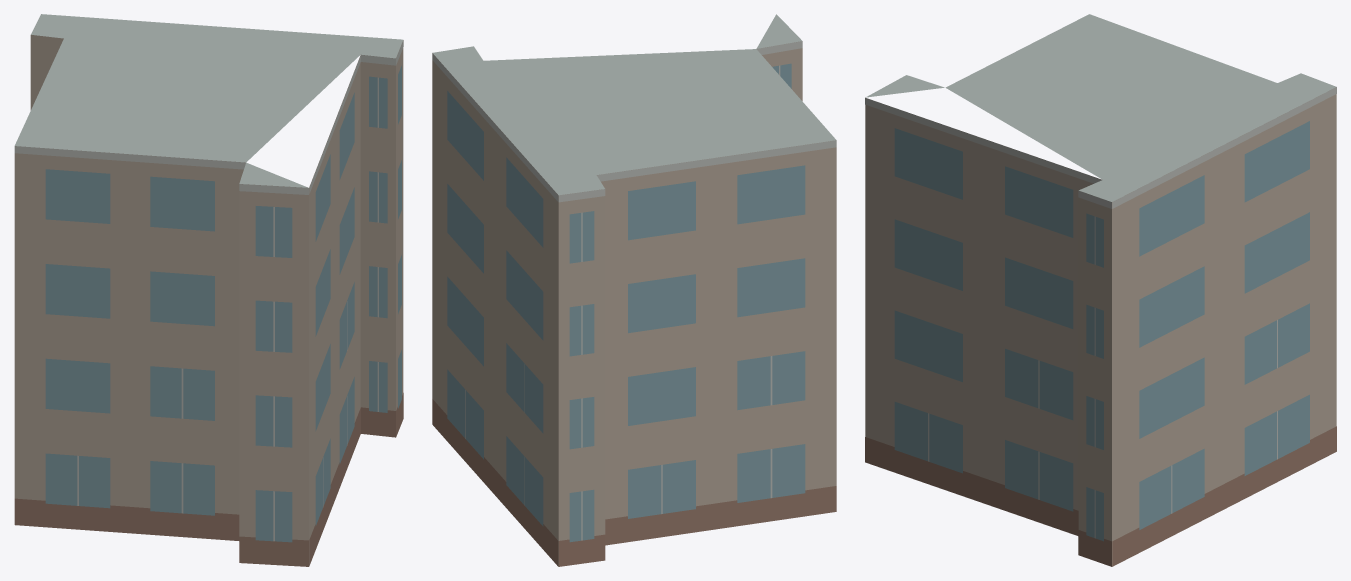
File: survey-upis-32939906.glb
3 views of the same model, side by side, from view 1: azimuth 30°, elevation 25°; view 2: azimuth 150°, elevation 25°; view 3: azimuth 270°, elevation 25° (orthographic). The views are drawn at different scales.
Parts seen in each view (by area): view 1: survey-upis-32939906.tmp; view 2: survey-upis-32939906.tmp; view 3: survey-upis-32939906.tmp.
Boxes of the visible parts, x1=… form: survey-upis-32939906.tmp: x1=14, y1=14, x2=403, y2=566; survey-upis-32939906.tmp: x1=432, y1=14, x2=836, y2=566; survey-upis-32939906.tmp: x1=865, y1=14, x2=1336, y2=566.
Bounding box in the file's own units: 14.17 × 12.8 × 15.01.
